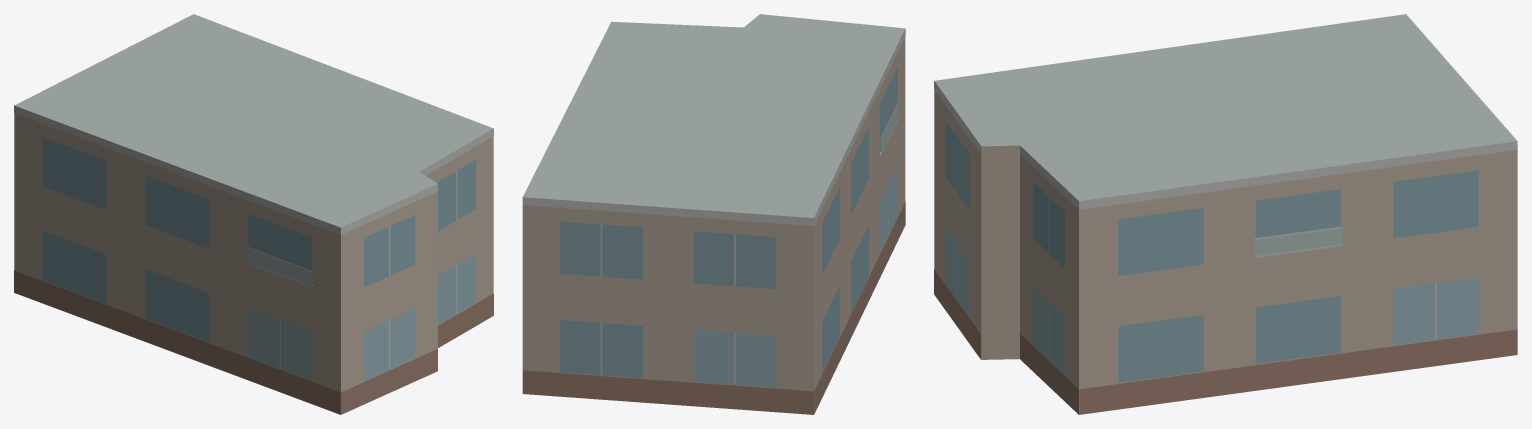
The model's file is survey-upis-32658356.glb.
3 renders of one model, left to right at view 1: azimuth 30°, elevation 25°; view 2: azimuth 150°, elevation 25°; view 3: azimuth 270°, elevation 25°, orthographic. The views are drawn at different scales.
Parts seen in each view (by area): view 1: survey-upis-32658356.tmp; view 2: survey-upis-32658356.tmp; view 3: survey-upis-32658356.tmp.
Boxes of the visible parts, left/top/right/bottom form: survey-upis-32658356.tmp: left=14, top=14, right=493, bottom=414; survey-upis-32658356.tmp: left=522, top=14, right=905, bottom=414; survey-upis-32658356.tmp: left=934, top=14, right=1517, bottom=414.
Size of the model in its own units: 11.47 by 6.1 by 15.11.
